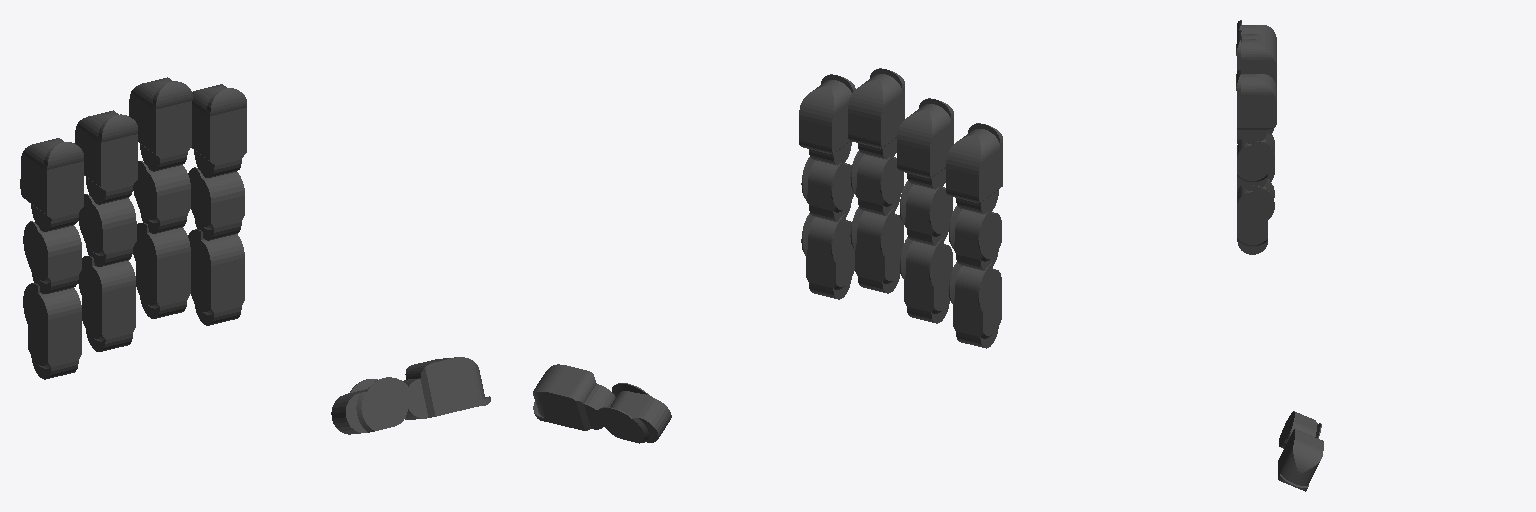
--- Facts derived from the render (not from the file) ---
The picture shows the robot from 3 angles, left to right: view 1: azimuth 30°, elevation 25°; view 2: azimuth 150°, elevation 25°; view 3: azimuth 270°, elevation 25°; orthographic projection.
Model softhand with 36 links and 35 joints (33 revolute, 2 fixed), rooted at world, posed every joint at zero.
Links seen in each view (by area): view 1: left_hand_v1_2_research_little_distal_link, left_hand_v1_2_research_middle_distal_link, left_hand_v1_2_research_ring_distal_link, left_hand_v1_2_research_little_proximal_link, left_hand_v1_2_research_middle_proximal_link, left_hand_v1_2_research_index_distal_link, left_hand_v1_2_research_ring_proximal_link, left_hand_v1_2_research_index_proximal_link, left_hand_v1_2_research_thumb_distal_link, left_hand_v1_2_research_thumb_proximal_link, left_hand_v1_2_research_little_middle_link, left_hand_v1_2_research_ring_middle_link (+2 smaller); view 2: left_hand_v1_2_research_little_distal_link, left_hand_v1_2_research_middle_distal_link, left_hand_v1_2_research_ring_distal_link, left_hand_v1_2_research_thumb_distal_link, left_hand_v1_2_research_index_distal_link, left_hand_v1_2_research_little_proximal_link, left_hand_v1_2_research_middle_proximal_link, left_hand_v1_2_research_index_proximal_link, left_hand_v1_2_research_ring_proximal_link, left_hand_v1_2_research_thumb_proximal_link, left_hand_v1_2_research_little_middle_link, left_hand_v1_2_research_ring_middle_link (+2 smaller); view 3: left_hand_v1_2_research_index_distal_link, left_hand_v1_2_research_index_proximal_link, left_hand_v1_2_research_thumb_distal_link, left_hand_v1_2_research_index_middle_link, left_hand_v1_2_research_middle_distal_link, left_hand_v1_2_research_thumb_proximal_link.
Boxes of the visible links, x1,y1,x2,y2 form: left_hand_v1_2_research_little_distal_link: (20, 138, 83, 231); left_hand_v1_2_research_middle_distal_link: (129, 77, 192, 171); left_hand_v1_2_research_ring_distal_link: (75, 110, 137, 204); left_hand_v1_2_research_little_proximal_link: (23, 283, 81, 379); left_hand_v1_2_research_middle_proximal_link: (133, 223, 190, 318); left_hand_v1_2_research_index_distal_link: (191, 84, 246, 177); left_hand_v1_2_research_ring_proximal_link: (78, 256, 135, 351); left_hand_v1_2_research_index_proximal_link: (188, 229, 244, 325); left_hand_v1_2_research_thumb_distal_link: (403, 357, 490, 419); left_hand_v1_2_research_thumb_proximal_link: (331, 377, 410, 434); left_hand_v1_2_research_little_middle_link: (23, 221, 81, 293); left_hand_v1_2_research_ring_middle_link: (78, 194, 136, 266); left_hand_v1_2_research_little_distal_link: (946, 123, 1002, 213); left_hand_v1_2_research_middle_distal_link: (848, 68, 904, 159); left_hand_v1_2_research_ring_distal_link: (897, 98, 953, 189); left_hand_v1_2_research_thumb_distal_link: (533, 364, 615, 430); left_hand_v1_2_research_index_distal_link: (799, 74, 855, 165); left_hand_v1_2_research_little_proximal_link: (948, 262, 1001, 348); left_hand_v1_2_research_middle_proximal_link: (850, 207, 903, 293); left_hand_v1_2_research_index_proximal_link: (801, 213, 854, 299); left_hand_v1_2_research_ring_proximal_link: (899, 237, 952, 323); left_hand_v1_2_research_thumb_proximal_link: (596, 383, 671, 443); left_hand_v1_2_research_little_middle_link: (949, 206, 1001, 270); left_hand_v1_2_research_ring_middle_link: (900, 181, 952, 245); left_hand_v1_2_research_index_distal_link: (1236, 70, 1276, 143); left_hand_v1_2_research_index_proximal_link: (1237, 179, 1274, 254); left_hand_v1_2_research_thumb_distal_link: (1278, 429, 1323, 491); left_hand_v1_2_research_index_middle_link: (1237, 132, 1274, 190); left_hand_v1_2_research_middle_distal_link: (1236, 35, 1276, 86); left_hand_v1_2_research_thumb_proximal_link: (1279, 411, 1321, 448).
Bounding box of the posed robot: 0.1766 × 0.0371 × 0.1549 m (x, y, z).
14 mesh visuals loaded from 7 distinct referenced files (3 binary STL); not drawn: 7 (reference not matched to a file when rendering).

URDF robot description (softhand):
<?xml version="1.0" ?>
<!-- =================================================================================== -->
<!-- |    This document was autogenerated by xacro from softhands.urdf.xacro           | -->
<!-- |    EDITING THIS FILE BY HAND IS NOT RECOMMENDED                                 | -->
<!-- =================================================================================== -->
<!-- 
 *  Software License Agreement: BSD 3-Clause License
 *
 * Copyright (c) 2021, NMMI
 * All rights reserved.
 *
 * Redistribution and use in source and binary forms, with or without
 * modification, are permitted provided that the following conditions are met:
 *
 * Redistributions of source code must retain the above copyright notice, this
 * list of conditions and the following disclaimer.
 *
 * Redistributions in binary form must reproduce the above copyright notice,
 * this list of conditions and the following disclaimer in the documentation
 * and/or other materials provided with the distribution.
 *
 * Neither the name of the copyright holder nor the names of its
 * contributors may be used to endorse or promote products derived from
 * this software without specific prior written permission.
 *
 * THIS SOFTWARE IS PROVIDED BY THE COPYRIGHT HOLDERS AND CONTRIBUTORS "AS IS"
 * AND ANY EXPRESS OR IMPLIED WARRANTIES, INCLUDING, BUT NOT LIMITED TO, THE
 * IMPLIED WARRANTIES OF MERCHANTABILITY AND FITNESS FOR A PARTICULAR PURPOSE ARE
 * DISCLAIMED. IN NO EVENT SHALL THE COPYRIGHT HOLDER OR CONTRIBUTORS BE LIABLE
 * FOR ANY DIRECT, INDIRECT, INCIDENTAL, SPECIAL, EXEMPLARY, OR CONSEQUENTIAL
 * DAMAGES (INCLUDING, BUT NOT LIMITED TO, PROCUREMENT OF SUBSTITUTE GOODS OR
 * SERVICES; LOSS OF USE, DATA, OR PROFITS; OR BUSINESS INTERRUPTION) HOWEVER
 * CAUSED AND ON ANY THEORY OF LIABILITY, WHETHER IN CONTRACT, STRICT LIABILITY,
 * OR TORT (INCLUDING NEGLIGENCE OR OTHERWISE) ARISING IN ANY WAY OUT OF THE USE
 * OF THIS SOFTWARE, EVEN IF ADVISED OF THE POSSIBILITY OF SUCH DAMAGE.
 *
 * \file      test_SHs_v2.urdf.xacro
 *
 * \author       _Centro di Ricerca "E.Piaggio"_
 * \author       _Istituto Italiano di Tecnologia, Soft Robotics for Human Cooperation and Rehabilitation Lab_
 *
-->
<robot name="softhand">
  <material name="qbhand/optional">
    <color rgba="0.0 0.5 0.8 1.0"/>
  </material>
  <material name="qbhand/base">
    <color rgba="0.35 0.35 0.35 1.0"/>
  </material>
  <material name="qbhand/palm">
    <color rgba="0.35 0.35 0.35 1.0"/>
  </material>
  <material name="qbhand/knuckle">
    <color rgba="0.35 0.35 0.35 1.0"/>
  </material>
  <material name="qbhand/proximal">
    <color rgba="0.35 0.35 0.35 1.0"/>
  </material>
  <material name="qbhand/middle">
    <color rgba="0.35 0.35 0.35 1.0"/>
  </material>
  <material name="qbhand/distal">
    <color rgba="0.35 0.35 0.35 1.0"/>
  </material>
  <material name="qbhand/default">
    <color rgba="0.35 0.35 0.35 1.0"/>
  </material>
  <!-- If you are using only the hand -->
  <link name="world"/>
  <!-- <xacro:v1_2_research 
				side="left"
				parent="world" 
				position="0 -0.2 0.02" 
				orientation="0 0 -1.57" 
				fixed_hands="false">
			</xacro:v1_2_research> -->
  <gazebo>
    <plugin filename="libsofthand_mimic_plugin.so" name="synergy_plugin">
      <namespace>left_hand_v1_2_research</namespace>
      <operation_mode>0</operation_mode>
      <spring_k>5</spring_k>
      <wide>False</wide>
      <r_finger>0.0033</r_finger>
      <R_pulley>0.0053</R_pulley>
      <n_param>0.058</n_param>
      <synS_thumb_j1>3</synS_thumb_j1>
      <synS_thumb_j2>1.2</synS_thumb_j2>
      <synS_thumb_j3>1.2</synS_thumb_j3>
      <k_thumb_j1>0.8</k_thumb_j1>
      <k_thumb_j2>0.8</k_thumb_j2>
      <k_thumb_j3>0.8</k_thumb_j3>
      <synS_index_j1>-0.3</synS_index_j1>
      <synS_index_j2>1.57</synS_index_j2>
      <synS_index_j3>1.25</synS_index_j3>
      <synS_index_j4>0.8</synS_index_j4>
      <k_index_j1>0.15</k_index_j1>
      <k_index_j2>0.5</k_index_j2>
      <k_index_j3>0.5</k_index_j3>
      <k_index_j4>0.5</k_index_j4>
      <synS_middle_j1>0</synS_middle_j1>
      <synS_middle_j2>1.57</synS_middle_j2>
      <synS_middle_j3>1.25</synS_middle_j3>
      <synS_middle_j4>1.25</synS_middle_j4>
      <k_middle_j1>0.15</k_middle_j1>
      <k_middle_j2>0.5</k_middle_j2>
      <k_middle_j3>0.5</k_middle_j3>
      <k_middle_j4>0.5</k_middle_j4>
      <synS_ring_j1>0</synS_ring_j1>
      <synS_ring_j2>1.57</synS_ring_j2>
      <synS_ring_j3>1.0</synS_ring_j3>
      <synS_ring_j4>1.0</synS_ring_j4>
      <k_ring_j1>0.15</k_ring_j1>
      <k_ring_j2>0.5</k_ring_j2>
      <k_ring_j3>0.5</k_ring_j3>
      <k_ring_j4>0.5</k_ring_j4>
      <synS_little_j1>0.1</synS_little_j1>
      <synS_little_j2>1.57</synS_little_j2>
      <synS_little_j3>1.25</synS_little_j3>
      <synS_little_j4>1.0</synS_little_j4>
      <k_little_j1>0.15</k_little_j1>
      <k_little_j2>0.5</k_little_j2>
      <k_little_j3>0.5</k_little_j3>
      <k_little_j4>0.5</k_little_j4>
      <!-- Palm thumb -->
      <synS_palm_j1>1.57</synS_palm_j1>
      <k_palm_j1>0.5</k_palm_j1>
      <k_palm_j1_mimic>0.5</k_palm_j1_mimic>
      <!-- Palm little -->
      <synS_palm_j2>1.57</synS_palm_j2>
      <k_palm_j2>0.5</k_palm_j2>
      <k_palm_j2_mimic>0.5</k_palm_j2_mimic>
    </plugin>
  </gazebo>
  <!-- World to palm base -->
  <joint name="left_hand_v1_2_research_iso_joint" type="fixed">
    <parent link="world"/>
    <child link="left_hand_v1_2_research_iso_link"/>
    <origin rpy="0 0 0" xyz="0 0 0"/>
  </joint>
  <link name="left_hand_v1_2_research_iso_link">
    <inertial>
      <mass value="0.205"/>
      <origin rpy="0 0 0" xyz="0.0 7.8738498e-04 1.5878899e-02"/>
      <inertia ixx="0.00012506929" ixy="0.0" ixz="0.0" iyy="0.0001338779" iyz="0.0" izz="0.00019218394"/>
    </inertial>
    <visual>
      <origin rpy="0 0 0" xyz="0 0 0"/>
      <geometry>
        <mesh filename="package://softhands_description/meshes/v1_2_research/left/flange_iso_04.stl" scale="0.001 0.001 0.001"/>
      </geometry>
      <material name="qbhand/base"/>
    </visual>
    <collision>
      <origin rpy="0 0 0" xyz="0 0 0"/>
      <geometry>
        <mesh filename="package://softhands_description/meshes/v1_2_research/left/flange_iso_04.stl" scale="0.001 0.001 0.001"/>
      </geometry>
    </collision>
  </link>
  <gazebo reference="left_hand_v1_2_research_iso_link">
    <material>Gazebo/Grey</material>
    <selfCollide>0</selfCollide>
  </gazebo>
  <joint name="left_hand_v1_2_research_palm_joint" type="fixed">
    <origin rpy="1.57 0  3.14" xyz="0.0045 0.0145 0.144"/>
    <parent link="left_hand_v1_2_research_iso_link"/>
    <child link="left_hand_v1_2_research_palm_link"/>
  </joint>
  <link name="left_hand_v1_2_research_palm_link">
    <inertial>
      <origin rpy="0 0 0" xyz="0.0030 -0.0449 -0.0135"/>
      <mass value="0.45"/>
      <inertia ixx="0.00045" ixy="0.0" ixz="0.0" iyy="0.00025" iyz="0.0" izz="0.0006"/>
    </inertial>
    <visual>
      <origin rpy="0 0 0" xyz="0 0 0"/>
      <geometry>
        <mesh filename="package://softhands_description/meshes/v1_2_research/left/palm_pinch.stl" scale="0.001 0.001 0.001"/>
      </geometry>
      <material name="qbhand/palm"/>
    </visual>
    <collision>
      <origin rpy="0 0 0" xyz="0 0 0"/>
      <geometry>
        <mesh filename="package://softhands_description/meshes/v1_2_research/left/palm_pinch.stl" scale="0.001 0.001 0.001"/>
      </geometry>
    </collision>
  </link>
  <gazebo reference="left_hand_v1_2_research_palm_link">
    <material>Gazebo/Grey</material>
    <selfCollide>0</selfCollide>
  </gazebo>
  <!-- Proximal JOINT -->
  <joint name="left_hand_v1_2_research_thumb_knuckle_joint" type="revolute">
    <origin rpy="-1.57 3.14 0.0" xyz="-0.044 -0.0465 0.002"/>
    <parent link="left_hand_v1_2_research_palm_link"/>
    <child link="left_hand_v1_2_research_thumb_knuckle_link"/>
    <axis xyz="0 0 1"/>
    <limit effort="30" lower="0.0" upper="1.57" velocity="10.0"/>
    <dynamics damping="3e-2" friction="0.0"/>
  </joint>
  <!-- LINK -->
  <link name="left_hand_v1_2_research_thumb_knuckle_link">
    <inertial>
      <origin rpy="0 0 0" xyz="1.3071561e-02 0.002734634 6.4090487e-04"/>
      <mass value="0.01"/>
      <inertia ixx="3.5865978e-07" ixy="-2.0944224e-07" ixz="-6.8657569e-08" iyy="1.3885564e-06" iyz="-3.2170608e-08" izz="1.3571203e-06"/>
    </inertial>
    <visual>
      <origin rpy="0 0 0" xyz="0 0 0"/>
      <geometry>
        <mesh filename="package://softhands_description/meshes/v1_2_research/left/ph_thumb.stl" scale="0.001 0.001 0.001"/>
      </geometry>
      <material name="qbhand/knuckle"/>
    </visual>
    <collision>
      <origin rpy="0 0 0" xyz="0 0 0"/>
      <geometry>
        <mesh filename="package://softhands_description/meshes/v1_2_research/left/ph_thumb.stl" scale="0.001 0.001 0.001"/>
      </geometry>
    </collision>
  </link>
  <!-- GAZEBO REF -->
  <gazebo reference="left_hand_v1_2_research_thumb_knuckle_link">
    <material>Gazebo/Grey</material>
    <selfCollide>0</selfCollide>
  </gazebo>
  <!-- GAZEBO REF -->
  <gazebo reference="left_hand_v1_2_research_thumb_knuckle_joint">
    <implicitSpringDamper>true</implicitSpringDamper>
    <springStiffness>0.4</springStiffness>
    <springReference>0</springReference>
  </gazebo>
  <!-- Inner VIRTUAL JOINT -->
  <joint name="left_hand_v1_2_research_thumb_proximal_virtual_joint" type="revolute">
    <axis xyz="0 0 -1"/>
    <origin rpy="-2 0.0 0.0" xyz="0.0255 0.0038 -0.00012"/>
    <parent link="left_hand_v1_2_research_thumb_knuckle_link"/>
    <child link="left_hand_v1_2_research_thumb_proximal_virtual_link"/>
    <limit effort="30" lower="0.0" upper="0.785398" velocity="10.0"/>
    <dynamics damping="3e-2" friction="0.0"/>
  </joint>
  <!-- VIRTUAL LINK -->
  <link name="left_hand_v1_2_research_thumb_proximal_virtual_link">
    <inertial>
      <origin rpy="0 0 0" xyz="0 0 0"/>
      <mass value="0.0063"/>
      <inertia ixx="1.8024201e-07" ixy="5.756798e-09" ixz="0.0" iyy="2.3516266e-07" iyz="0.0" izz="2.691504e-07"/>
    </inertial>
  </link>
  <!-- Outer JOINT -->
  <joint name="left_hand_v1_2_research_thumb_proximal_joint" type="revolute">
    <axis xyz="0 0 -1"/>
    <origin rpy="0 0 0" xyz="0.013 0 0"/>
    <parent link="left_hand_v1_2_research_thumb_proximal_virtual_link"/>
    <child link="left_hand_v1_2_research_thumb_proximal_link"/>
    <limit effort="30" lower="0.0" upper="0.785398" velocity="10.0"/>
    <dynamics damping="3e-2" friction="0.0"/>
  </joint>
  <!-- LINK -->
  <link name="left_hand_v1_2_research_thumb_proximal_link">
    <inertial>
      <mass value="0.0063"/>
      <inertia ixx="1.8024201e-07" ixy="5.756798e-09" ixz="0.0" iyy="2.3516266e-07" iyz="0.0" izz="2.691504e-07"/>
      <origin rpy="0 0 0" xyz="4.7601567e-03 -1.3786947e-03 0.0"/>
    </inertial>
    <visual>
      <origin rpy="0 0 0" xyz="0 0 0"/>
      <geometry>
        <mesh filename="package://softhands_description/meshes/v1_2_research/left/ph_short.stl" scale="0.001 0.001 0.001"/>
      </geometry>
      <material name="qbhand/palm"/>
    </visual>
    <collision>
      <origin rpy="0 0 0" xyz="0 0 0"/>
      <geometry>
        <mesh filename="package://softhands_description/meshes/v1_2_research/left/ph_short.stl" scale="0.001 0.001 0.001"/>
      </geometry>
    </collision>
  </link>
  <!-- GAZEBO REF -->
  <gazebo reference="left_hand_v1_2_research_thumb_proximal_link">
    <material>Gazebo/Grey</material>
    <selfCollide>0</selfCollide>
  </gazebo>
  <!-- GAZEBO REF -->
  <gazebo reference="left_hand_v1_2_research_thumb_proximal_joint">
    <implicitSpringDamper>true</implicitSpringDamper>
    <springStiffness>0.4</springStiffness>
    <springReference>0</springReference>
  </gazebo>
  <!-- GAZEBO REF -->
  <gazebo reference="left_hand_v1_2_research_thumb_proximal_virtual_joint">
    <implicitSpringDamper>true</implicitSpringDamper>
    <springStiffness>0.4</springStiffness>
    <springReference>0</springReference>
  </gazebo>
  <!-- Inner VIRTUAL JOINT -->
  <joint name="left_hand_v1_2_research_thumb_distal_virtual_joint" type="revolute">
    <axis xyz="0 0 -1"/>
    <origin rpy="0 0 0" xyz="0.009 0 0"/>
    <parent link="left_hand_v1_2_research_thumb_proximal_link"/>
    <child link="left_hand_v1_2_research_thumb_distal_virtual_link"/>
    <limit effort="30" lower="0.0" upper="0.785398" velocity="10.0"/>
    <dynamics damping="3e-2" friction="0.0"/>
  </joint>
  <!-- VIRTUAL LINK -->
  <link name="left_hand_v1_2_research_thumb_distal_virtual_link">
    <inertial>
      <origin rpy="0 0 0" xyz="0 0 0"/>
      <mass value="0.009"/>
      <inertia ixx="2.6586142e-07" ixy="1.2416847e-08" ixz="0.0" iyy="5.9935767e-07" iyz="0.0" izz="6.6781963e-07"/>
    </inertial>
  </link>
  <!-- Outer JOINT -->
  <joint name="left_hand_v1_2_research_thumb_distal_joint" type="revolute">
    <axis xyz="0 0 -1"/>
    <origin rpy="0 0 0" xyz="0.013 0 0"/>
    <parent link="left_hand_v1_2_research_thumb_distal_virtual_link"/>
    <child link="left_hand_v1_2_research_thumb_distal_link"/>
    <limit effort="30" lower="0.0" upper="0.785398" velocity="10.0"/>
    <dynamics damping="3e-2" friction="0.0"/>
  </joint>
  <!-- LINK -->
  <link name="left_hand_v1_2_research_thumb_distal_link">
    <inertial>
      <mass value="0.009"/>
      <inertia ixx="2.6586142e-07" ixy="1.2416847e-08" ixz="0.0" iyy="5.9935767e-07" iyz="0.0" izz="6.6781963e-07"/>
      <origin rpy="0 0 0" xyz="8.8025467e-03 -1.7219289e-03 0.0"/>
    </inertial>
    <visual>
      <origin rpy="0 0 0" xyz="0 0 0"/>
      <geometry>
        <mesh filename="package://softhands_description/meshes/v1_2_research/left/ph_distal.stl" scale="0.001 0.001 0.001"/>
      </geometry>
      <material name="qbhand/palm"/>
    </visual>
    <collision>
      <origin rpy="0 0 0" xyz="0 0 0"/>
      <geometry>
        <mesh filename="package://softhands_description/meshes/v1_2_research/left/ph_distal.stl" scale="0.001 0.001 0.001"/>
      </geometry>
    </collision>
  </link>
  <!-- GAZEBO REF -->
  <gazebo reference="left_hand_v1_2_research_thumb_distal_link">
    <material>Gazebo/Grey</material>
    <selfCollide>0</selfCollide>
  </gazebo>
  <!-- GAZEBO REF -->
  <gazebo reference="left_hand_v1_2_research_thumb_distal_joint">
    <implicitSpringDamper>true</implicitSpringDamper>
    <springStiffness>0.4</springStiffness>
    <springReference>0</springReference>
  </gazebo>
  <!-- GAZEBO REF -->
  <gazebo reference="left_hand_v1_2_research_thumb_distal_virtual_joint">
    <implicitSpringDamper>true</implicitSpringDamper>
    <springStiffness>0.4</springStiffness>
    <springReference>0</springReference>
  </gazebo>
  <!-- Proximal JOINT -->
  <joint name="left_hand_v1_2_research_index_knuckle_joint" type="revolute">
    <origin rpy="0 3.14 -1.57" xyz="-0.02 -0.007 -0.014"/>
    <parent link="left_hand_v1_2_research_palm_link"/>
    <child link="left_hand_v1_2_research_index_knuckle_link"/>
    <axis xyz="0 0 -1"/>
    <limit effort="30" lower="-0.524" upper="0.524" velocity="10.0"/>
    <dynamics damping="3e-2" friction="0.0"/>
  </joint>
  <!-- LINK -->
  <link name="left_hand_v1_2_research_index_knuckle_link">
    <inertial>
      <origin rpy="0 0 0" xyz="4.2753603e-04  0.0 -1.4321738e-03"/>
      <mass value="0.0095"/>
      <inertia ixx="6.4337303e-07" ixy="0.0" ixz="-3.9373913e-08" iyy="1.1253771e-06" iyz="0.0" izz="7.2336948e-07"/>
    </inertial>
    <visual>
      <origin rpy="0 0 0" xyz="0 0 0"/>
      <geometry>
        <mesh filename="package://softhands_description/meshes/v1_2_research/left/ph_knuckle.stl" scale="0.001 0.001 0.001"/>
      </geometry>
      <material name="qbhand/palm"/>
    </visual>
    <collision>
      <origin rpy="0 0 0" xyz="0 0 0"/>
      <geometry>
        <mesh filename="package://softhands_description/meshes/v1_2_research/left/ph_knuckle.stl" scale="0.001 0.001 0.001"/>
      </geometry>
    </collision>
  </link>
  <!-- GAZEBO REF -->
  <gazebo reference="left_hand_v1_2_research_index_knuckle_link">
    <material>Gazebo/Grey</material>
    <selfCollide>0</selfCollide>
  </gazebo>
  <!-- GAZEBO REF -->
  <gazebo reference="left_hand_v1_2_research_index_knuckle_joint">
    <implicitSpringDamper>true</implicitSpringDamper>
    <springStiffness>0.8</springStiffness>
    <springReference>0</springReference>
  </gazebo>
  <!-- Inner VIRTUAL JOINT -->
  <joint name="left_hand_v1_2_research_index_proximal_virtual_joint" type="revolute">
    <axis xyz="0 0 -1"/>
    <origin rpy="1.57 0 0" xyz="0.009 0 0"/>
    <parent link="left_hand_v1_2_research_index_knuckle_link"/>
    <child link="left_hand_v1_2_research_index_proximal_virtual_link"/>
    <limit effort="30" lower="0.0" upper="0.785398" velocity="10.0"/>
    <dynamics damping="3e-2" friction="0.0"/>
  </joint>
  <!-- VIRTUAL LINK -->
  <link name="left_hand_v1_2_research_index_proximal_virtual_link">
    <inertial>
      <origin rpy="0 0 0" xyz="0 0 0"/>
      <mass value="0.009"/>
      <inertia ixx="2.2722068e-07" ixy="1.1586053e-08" ixz="0.0" iyy="5.5947233e-07" iyz="0.0" izz="5.9562195e-07"/>
    </inertial>
  </link>
  <!-- Outer JOINT -->
  <joint name="left_hand_v1_2_research_index_proximal_joint" type="revolute">
    <axis xyz="0 0 -1"/>
    <origin rpy="0.0 0 0" xyz="0.013 0 0"/>
    <parent link="left_hand_v1_2_research_index_proximal_virtual_link"/>
    <child link="left_hand_v1_2_research_index_proximal_link"/>
    <limit effort="30" lower="0.0" upper="0.785398" velocity="10.0"/>
    <dynamics damping="3e-2" friction="0.0"/>
  </joint>
  <!-- LINK -->
  <link name="left_hand_v1_2_research_index_proximal_link">
    <inertial>
      <mass value="0.009"/>
      <inertia ixx="2.2722068e-07" ixy="1.1586053e-08" ixz="0.0" iyy="5.5947233e-07" iyz="0.0" izz="5.9562195e-07"/>
      <origin rpy="0 0 0" xyz="8.7707437e-03 -1.7863138e-03 0.0"/>
    </inertial>
    <visual>
      <origin rpy="0 0 0" xyz="0 0 0"/>
      <geometry>
        <mesh filename="package://softhands_description/meshes/v1_2_research/left/ph_medium.stl" scale="0.001 0.001 0.001"/>
      </geometry>
      <material name="qbhand/palm"/>
    </visual>
    <collision>
      <origin rpy="0 0 0" xyz="0 0 0"/>
      <geometry>
        <mesh filename="package://softhands_description/meshes/v1_2_research/left/ph_medium.stl" scale="0.001 0.001 0.001"/>
      </geometry>
    </collision>
  </link>
  <!-- GAZEBO REF -->
  <gazebo reference="left_hand_v1_2_research_index_proximal_link">
    <material>Gazebo/Grey</material>
    <selfCollide>0</selfCollide>
  </gazebo>
  <!-- GAZEBO REF -->
  <gazebo reference="left_hand_v1_2_research_index_proximal_joint">
    <implicitSpringDamper>true</implicitSpringDamper>
    <springStiffness>0.4</springStiffness>
    <springReference>0</springReference>
  </gazebo>
  <!-- GAZEBO REF -->
  <gazebo reference="left_hand_v1_2_research_index_proximal_virtual_joint">
    <implicitSpringDamper>true</implicitSpringDamper>
    <springStiffness>0.4</springStiffness>
    <springReference>0</springReference>
  </gazebo>
  <!-- Inner VIRTUAL JOINT -->
  <joint name="left_hand_v1_2_research_index_middle_virtual_joint" type="revolute">
    <axis xyz="0 0 -1"/>
    <origin rpy="0.0 0.0 0.0" xyz="0.013 0 0 "/>
    <parent link="left_hand_v1_2_research_index_proximal_link"/>
    <child link="left_hand_v1_2_research_index_middle_virtual_link"/>
    <limit effort="30" lower="0.0" upper="0.785398" velocity="10.0"/>
    <dynamics damping="3e-2" friction="0.0"/>
  </joint>
  <!-- VIRTUAL LINK -->
  <link name="left_hand_v1_2_research_index_middle_virtual_link">
    <inertial>
      <origin rpy="0 0 0" xyz="0 0 0"/>
      <mass value="0.0063"/>
      <inertia ixx="1.8024201e-07" ixy="5.756798e-09" ixz="0.0" iyy="2.3516266e-07" iyz="0.0" izz="2.691504e-07"/>
    </inertial>
  </link>
  <!-- Outer JOINT -->
  <joint name="left_hand_v1_2_research_index_middle_joint" type="revolute">
    <axis xyz="0 0 -1"/>
    <origin rpy="0 0 0" xyz="0.017 0 0"/>
    <parent link="left_hand_v1_2_research_index_middle_virtual_link"/>
    <child link="left_hand_v1_2_research_index_middle_link"/>
    <limit effort="30" lower="0.0" upper="0.785398" velocity="10.0"/>
    <dynamics damping="3e-2" friction="0.0"/>
  </joint>
  <!-- LINK -->
  <link name="left_hand_v1_2_research_index_middle_link">
    <inertial>
      <mass value="0.0063"/>
      <inertia ixx="1.8024201e-07" ixy="5.756798e-09" ixz="0.0" iyy="2.3516266e-07" iyz="0.0" izz="2.691504e-07"/>
      <origin rpy="0 0 0" xyz="4.7601567e-03 -1.3786947e-03 0.0"/>
    </inertial>
    <visual>
      <origin rpy="0 0 0" xyz="0 0 0"/>
      <geometry>
        <mesh filename="package://softhands_description/meshes/v1_2_research/left/ph_short.stl" scale="0.001 0.001 0.001"/>
      </geometry>
      <material name="qbhand/palm"/>
    </visual>
    <collision>
      <origin rpy="0 0 0" xyz="0 0 0"/>
      <geometry>
        <mesh filename="package://softhands_description/meshes/v1_2_research/left/ph_short.stl" scale="0.001 0.001 0.001"/>
      </geometry>
    </collision>
  </link>
  <!-- GAZEBO REF -->
  <gazebo reference="left_hand_v1_2_research_index_middle_link">
    <material>Gazebo/Grey</material>
    <selfCollide>0</selfCollide>
  </gazebo>
  <!-- GAZEBO REF -->
  <gazebo reference="left_hand_v1_2_research_index_middle_joint">
    <implicitSpringDamper>true</implicitSpringDamper>
    <springStiffness>0.4</springStiffness>
    <springReference>0</springReference>
  </gazebo>
  <!-- GAZEBO REF -->
  <gazebo reference="left_hand_v1_2_research_index_middle_virtual_joint">
    <implicitSpringDamper>true</implicitSpringDamper>
    <springStiffness>0.4</springStiffness>
    <springReference>0</springReference>
  </gazebo>
  <!-- Inner VIRTUAL JOINT -->
  <joint name="left_hand_v1_2_research_index_distal_virtual_joint" type="revolute">
    <axis xyz="0 0 -1"/>
    <origin rpy="0 0 0" xyz="0.009 0 0"/>
    <parent link="left_hand_v1_2_research_index_middle_link"/>
    <child link="left_hand_v1_2_research_index_distal_virtual_link"/>
    <limit effort="30" lower="0.0" upper="0.785398" velocity="10.0"/>
    <dynamics damping="3e-2" friction="0.0"/>
  </joint>
  <!-- VIRTUAL LINK -->
  <link name="left_hand_v1_2_research_index_distal_virtual_link">
    <inertial>
      <origin rpy="0 0 0" xyz="0 0 0"/>
      <mass value="0.009"/>
      <inertia ixx="2.6586142e-07" ixy="1.2416847e-08" ixz="0.0" iyy="5.9935767e-07" iyz="0.0" izz="6.6781963e-07"/>
    </inertial>
  </link>
  <!-- Outer JOINT -->
  <joint name="left_hand_v1_2_research_index_distal_joint" type="revolute">
    <axis xyz="0 0 -1"/>
    <origin rpy="0 0 0" xyz="0.013 0 0"/>
    <parent link="left_hand_v1_2_research_index_distal_virtual_link"/>
    <child link="left_hand_v1_2_research_index_distal_link"/>
    <limit effort="30" lower="0.0" upper="0.785398" velocity="10.0"/>
    <dynamics damping="3e-2" friction="0.0"/>
  </joint>
  <!-- LINK -->
  <link name="left_hand_v1_2_research_index_distal_link">
    <inertial>
      <mass value="0.009"/>
      <inertia ixx="2.6586142e-07" ixy="1.2416847e-08" ixz="0.0" iyy="5.9935767e-07" iyz="0.0" izz="6.6781963e-07"/>
      <origin rpy="0 0 0" xyz="8.8025467e-03 -1.7219289e-03 0.0"/>
    </inertial>
    <visual>
      <origin rpy="0 0 0" xyz="0 0 0"/>
      <geometry>
        <mesh filename="package://softhands_description/meshes/v1_2_research/left/ph_distal.stl" scale="0.001 0.001 0.001"/>
      </geometry>
      <material name="qbhand/palm"/>
    </visual>
    <collision>
      <origin rpy="0 0 0" xyz="0 0 0"/>
      <geometry>
        <mesh filename="package://softhands_description/meshes/v1_2_research/left/ph_distal.stl" scale="0.001 0.001 0.001"/>
      </geometry>
    </collision>
  </link>
  <!-- GAZEBO REF -->
  <gazebo reference="left_hand_v1_2_research_index_distal_link">
    <material>Gazebo/Grey</material>
    <selfCollide>0</selfCollide>
  </gazebo>
  <!-- GAZEBO REF -->
  <gazebo reference="left_hand_v1_2_research_index_distal_joint">
    <implicitSpringDamper>true</implicitSpringDamper>
    <springStiffness>0.4</springStiffness>
    <springReference>0</springReference>
  </gazebo>
  <!-- GAZEBO REF -->
  <gazebo reference="left_hand_v1_2_research_index_distal_virtual_joint">
    <implicitSpringDamper>true</implicitSpringDamper>
    <springStiffness>0.4</springStiffness>
    <springReference>0</springReference>
  </gazebo>
  <!-- Proximal JOINT -->
  <joint name="left_hand_v1_2_research_middle_knuckle_joint" type="revolute">
    <origin rpy="0 3.14 -1.57" xyz="0 0 -0.014"/>
    <parent link="left_hand_v1_2_research_palm_link"/>
    <child link="left_hand_v1_2_research_middle_knuckle_link"/>
    <axis xyz="0 0 -1"/>
    <limit effort="30" lower="-0.524" upper="0.524" velocity="10.0"/>
    <dynamics damping="3e-2" friction="0.0"/>
  </joint>
  <!-- LINK -->
  <link name="left_hand_v1_2_research_middle_knuckle_link">
    <inertial>
      <origin rpy="0 0 0" xyz="4.2753603e-04  0.0 -1.4321738e-03"/>
      <mass value="0.0095"/>
      <inertia ixx="6.4337303e-07" ixy="0.0" ixz="-3.9373913e-08" iyy="1.1253771e-06" iyz="0.0" izz="7.2336948e-07"/>
    </inertial>
    <visual>
      <origin rpy="0 0 0" xyz="0 0 0"/>
      <geometry>
        <mesh filename="package://softhands_description/meshes/v1_2_research/left/ph_knuckle.stl" scale="0.001 0.001 0.001"/>
      </geometry>
      <material name="qbhand/palm"/>
    </visual>
    <collision>
      <origin rpy="0 0 0" xyz="0 0 0"/>
      <geometry>
        <mesh filename="package://softhands_description/meshes/v1_2_research/left/ph_knuckle.stl" scale="0.001 0.001 0.001"/>
      </geometry>
    </collision>
  </link>
  <!-- GAZEBO REF -->
  <gazebo reference="left_hand_v1_2_research_middle_knuckle_link">
    <material>Gazebo/Grey</material>
    <selfCollide>0</selfCollide>
  </gazebo>
  <!-- GAZEBO REF -->
  <gazebo reference="left_hand_v1_2_research_middle_knuckle_joint">
    <implicitSpringDamper>true</implicitSpringDamper>
    <springStiffness>0.8</springStiffness>
    <springReference>0</springReference>
  </gazebo>
  <!-- Inner VIRTUAL JOINT -->
  <joint name="left_hand_v1_2_research_middle_proximal_virtual_joint" type="revolute">
    <axis xyz="0 0 -1"/>
    <origin rpy="1.57 0 0" xyz="0.009 0 0"/>
    <parent link="left_hand_v1_2_research_middle_knuckle_link"/>
    <child link="left_hand_v1_2_research_middle_proximal_virtual_link"/>
    <limit effort="30" lower="0.0" upper="0.785398" velocity="10.0"/>
    <dynamics damping="3e-2" friction="0.0"/>
  </joint>
  <!-- VIRTUAL LINK -->
  <link name="left_hand_v1_2_research_middle_proximal_virtual_link">
    <inertial>
      <origin rpy="0 0 0" xyz="0 0 0"/>
      <mass value="0.009"/>
      <inertia ixx="2.2722068e-07" ixy="1.1586053e-08" ixz="0.0" iyy="5.5947233e-07" iyz="0.0" izz="5.9562195e-07"/>
    </inertial>
  </link>
  <!-- Outer JOINT -->
  <joint name="left_hand_v1_2_research_middle_proximal_joint" type="revolute">
    <axis xyz="0 0 -1"/>
    <origin rpy="0.0 0 0" xyz="0.013 0 0"/>
    <parent link="left_hand_v1_2_research_middle_proximal_virtual_link"/>
    <child link="left_hand_v1_2_research_middle_proximal_link"/>
    <limit effort="30" lower="0.0" upper="0.785398" velocity="10.0"/>
    <dynamics damping="3e-2" friction="0.0"/>
  </joint>
  <!-- LINK -->
  <link name="left_hand_v1_2_research_middle_proximal_link">
    <inertial>
      <mass value="0.009"/>
      <inertia ixx="2.2722068e-07" ixy="1.1586053e-08" ixz="0.0" iyy="5.5947233e-07" iyz="0.0" izz="5.9562195e-07"/>
      <origin rpy="0 0 0" xyz="8.7707437e-03 -1.7863138e-03 0.0"/>
    </inertial>
    <visual>
      <origin rpy="0 0 0" xyz="0 0 0"/>
      <geometry>
        <mesh filename="package://softhands_description/meshes/v1_2_research/left/ph_medium.stl" scale="0.001 0.001 0.001"/>
      </geometry>
      <material name="qbhand/palm"/>
    </visual>
    <collision>
      <origin rpy="0 0 0" xyz="0 0 0"/>
      <geometry>
        <mesh filename="package://softhands_description/meshes/v1_2_research/left/ph_medium.stl" scale="0.001 0.001 0.001"/>
      </geometry>
    </collision>
  </link>
  <!-- GAZEBO REF -->
  <gazebo reference="left_hand_v1_2_research_middle_proximal_link">
    <material>Gazebo/Grey</material>
    <selfCollide>0</selfCollide>
  </gazebo>
  <!-- GAZEBO REF -->
  <gazebo reference="left_hand_v1_2_research_middle_proximal_joint">
    <implicitSpringDamper>true</implicitSpringDamper>
    <springStiffness>0.4</springStiffness>
    <springReference>0</springReference>
  </gazebo>
  <!-- GAZEBO REF -->
  <gazebo reference="left_hand_v1_2_research_middle_proximal_virtual_joint">
    <implicitSpringDamper>true</implicitSpringDamper>
    <springStiffness>0.4</springStiffness>
    <springReference>0</springReference>
  </gazebo>
  <!-- Inner VIRTUAL JOINT -->
  <joint name="left_hand_v1_2_research_middle_middle_virtual_joint" type="revolute">
    <axis xyz="0 0 -1"/>
    <origin rpy="0.0 0.0 0.0" xyz="0.013 0 0 "/>
    <parent link="left_hand_v1_2_research_middle_proximal_link"/>
    <child link="left_hand_v1_2_research_middle_middle_virtual_link"/>
    <limit effort="30" lower="0.0" upper="0.785398" velocity="10.0"/>
    <dynamics damping="3e-2" friction="0.0"/>
  </joint>
  <!-- VIRTUAL LINK -->
  <link name="left_hand_v1_2_research_middle_middle_virtual_link">
    <inertial>
      <origin rpy="0 0 0" xyz="0 0 0"/>
      <mass value="0.0063"/>
      <inertia ixx="1.8024201e-07" ixy="5.756798e-09" ixz="0.0" iyy="2.3516266e-07" iyz="0.0" izz="2.691504e-07"/>
    </inertial>
  </link>
  <!-- Outer JOINT -->
  <joint name="left_hand_v1_2_research_middle_middle_joint" type="revolute">
    <axis xyz="0 0 -1"/>
    <origin rpy="0 0 0" xyz="0.017 0 0"/>
    <parent link="left_hand_v1_2_research_middle_middle_virtual_link"/>
    <child link="left_hand_v1_2_research_middle_middle_link"/>
    <limit effort="30" lower="0.0" upper="0.785398" velocity="10.0"/>
    <dynamics damping="3e-2" friction="0.0"/>
  </joint>
  <!-- LINK -->
  <link name="left_hand_v1_2_research_middle_middle_link">
    <inertial>
      <mass value="0.0063"/>
      <inertia ixx="1.8024201e-07" ixy="5.756798e-09" ixz="0.0" iyy="2.3516266e-07" iyz="0.0" izz="2.691504e-07"/>
      <origin rpy="0 0 0" xyz="4.7601567e-03 -1.3786947e-03 0.0"/>
    </inertial>
    <visual>
      <origin rpy="0 0 0" xyz="0 0 0"/>
      <geometry>
        <mesh filename="package://softhands_description/meshes/v1_2_research/left/ph_short.stl" scale="0.001 0.001 0.001"/>
      </geometry>
      <material name="qbhand/palm"/>
    </visual>
    <collision>
      <origin rpy="0 0 0" xyz="0 0 0"/>
      <geometry>
        <mesh filename="package://softhands_description/meshes/v1_2_research/left/ph_short.stl" scale="0.001 0.001 0.001"/>
      </geometry>
    </collision>
  </link>
  <!-- GAZEBO REF -->
  <gazebo reference="left_hand_v1_2_research_middle_middle_link">
    <material>Gazebo/Grey</material>
    <selfCollide>0</selfCollide>
  </gazebo>
  <!-- GAZEBO REF -->
  <gazebo reference="left_hand_v1_2_research_middle_middle_joint">
    <implicitSpringDamper>true</implicitSpringDamper>
    <springStiffness>0.4</springStiffness>
    <springReference>0</springReference>
  </gazebo>
  <!-- GAZEBO REF -->
  <gazebo reference="left_hand_v1_2_research_middle_middle_virtual_joint">
    <implicitSpringDamper>true</implicitSpringDamper>
    <springStiffness>0.4</springStiffness>
    <springReference>0</springReference>
  </gazebo>
  <!-- Inner VIRTUAL JOINT -->
  <joint name="left_hand_v1_2_research_middle_distal_virtual_joint" type="revolute">
    <axis xyz="0 0 -1"/>
    <origin rpy="0 0 0" xyz="0.009 0 0"/>
    <parent link="left_hand_v1_2_research_middle_middle_link"/>
    <child link="left_hand_v1_2_research_middle_distal_virtual_link"/>
    <limit effort="30" lower="0.0" upper="0.785398" velocity="10.0"/>
    <dynamics damping="3e-2" friction="0.0"/>
  </joint>
  <!-- VIRTUAL LINK -->
  <link name="left_hand_v1_2_research_middle_distal_virtual_link">
    <inertial>
      <origin rpy="0 0 0" xyz="0 0 0"/>
      <mass value="0.009"/>
      <inertia ixx="2.6586142e-07" ixy="1.2416847e-08" ixz="0.0" iyy="5.9935767e-07" iyz="0.0" izz="6.6781963e-07"/>
    </inertial>
  </link>
  <!-- Outer JOINT -->
  <joint name="left_hand_v1_2_research_middle_distal_joint" type="revolute">
    <axis xyz="0 0 -1"/>
    <origin rpy="0 0 0" xyz="0.013 0 0"/>
    <parent link="left_hand_v1_2_research_middle_distal_virtual_link"/>
    <child link="left_hand_v1_2_research_middle_distal_link"/>
    <limit effort="30" lower="0.0" upper="0.785398" velocity="10.0"/>
    <dynamics damping="3e-2" friction="0.0"/>
  </joint>
  <!-- LINK -->
  <link name="left_hand_v1_2_research_middle_distal_link">
    <inertial>
      <mass value="0.009"/>
      <inertia ixx="2.6586142e-07" ixy="1.2416847e-08" ixz="0.0" iyy="5.9935767e-07" iyz="0.0" izz="6.6781963e-07"/>
      <origin rpy="0 0 0" xyz="8.8025467e-03 -1.7219289e-03 0.0"/>
    </inertial>
    <visual>
      <origin rpy="0 0 0" xyz="0 0 0"/>
      <geometry>
        <mesh filename="package://softhands_description/meshes/v1_2_research/left/ph_distal.stl" scale="0.001 0.001 0.001"/>
      </geometry>
      <material name="qbhand/palm"/>
    </visual>
    <collision>
      <origin rpy="0 0 0" xyz="0 0 0"/>
      <geometry>
        <mesh filename="package://softhands_description/meshes/v1_2_research/left/ph_distal.stl" scale="0.001 0.001 0.001"/>
      </geometry>
    </collision>
  </link>
  <!-- GAZEBO REF -->
  <gazebo reference="left_hand_v1_2_research_middle_distal_link">
    <material>Gazebo/Grey</material>
    <selfCollide>0</selfCollide>
  </gazebo>
  <!-- GAZEBO REF -->
  <gazebo reference="left_hand_v1_2_research_middle_distal_joint">
    <implicitSpringDamper>true</implicitSpringDamper>
    <springStiffness>0.4</springStiffness>
    <springReference>0</springReference>
  </gazebo>
  <!-- GAZEBO REF -->
  <gazebo reference="left_hand_v1_2_research_middle_distal_virtual_joint">
    <implicitSpringDamper>true</implicitSpringDamper>
    <springStiffness>0.4</springStiffness>
    <springReference>0</springReference>
  </gazebo>
  <!-- Proximal JOINT -->
  <joint name="left_hand_v1_2_research_ring_knuckle_joint" type="revolute">
    <origin rpy="0 3.14 -1.57" xyz="0.02 -0.007 -0.014"/>
    <parent link="left_hand_v1_2_research_palm_link"/>
    <child link="left_hand_v1_2_research_ring_knuckle_link"/>
    <axis xyz="0 0 -1"/>
    <limit effort="30" lower="-0.524" upper="0.524" velocity="10.0"/>
    <dynamics damping="3e-2" friction="0.0"/>
  </joint>
  <!-- LINK -->
  <link name="left_hand_v1_2_research_ring_knuckle_link">
    <inertial>
      <origin rpy="0 0 0" xyz="4.2753603e-04  0.0 -1.4321738e-03"/>
      <mass value="0.0095"/>
      <inertia ixx="6.4337303e-07" ixy="0.0" ixz="-3.9373913e-08" iyy="1.1253771e-06" iyz="0.0" izz="7.2336948e-07"/>
    </inertial>
    <visual>
      <origin rpy="0 0 0" xyz="0 0 0"/>
      <geometry>
        <mesh filename="package://softhands_description/meshes/v1_2_research/left/ph_knuckle.stl" scale="0.001 0.001 0.001"/>
      </geometry>
      <material name="qbhand/palm"/>
    </visual>
    <collision>
      <origin rpy="0 0 0" xyz="0 0 0"/>
      <geometry>
        <mesh filename="package://softhands_description/meshes/v1_2_research/left/ph_knuckle.stl" scale="0.001 0.001 0.001"/>
      </geometry>
    </collision>
  </link>
  <!-- GAZEBO REF -->
  <gazebo reference="left_hand_v1_2_research_ring_knuckle_link">
    <material>Gazebo/Grey</material>
    <selfCollide>0</selfCollide>
  </gazebo>
  <!-- GAZEBO REF -->
  <gazebo reference="left_hand_v1_2_research_ring_knuckle_joint">
    <implicitSpringDamper>true</implicitSpringDamper>
    <springStiffness>0.8</springStiffness>
    <springReference>0</springReference>
  </gazebo>
  <!-- Inner VIRTUAL JOINT -->
  <joint name="left_hand_v1_2_research_ring_proximal_virtual_joint" type="revolute">
    <axis xyz="0 0 -1"/>
    <origin rpy="1.57 0 0" xyz="0.009 0 0"/>
    <parent link="left_hand_v1_2_research_ring_knuckle_link"/>
    <child link="left_hand_v1_2_research_ring_proximal_virtual_link"/>
    <limit effort="30" lower="0.0" upper="0.785398" velocity="10.0"/>
    <dynamics damping="3e-2" friction="0.0"/>
  </joint>
  <!-- VIRTUAL LINK -->
  <link name="left_hand_v1_2_research_ring_proximal_virtual_link">
    <inertial>
      <origin rpy="0 0 0" xyz="0 0 0"/>
      <mass value="0.009"/>
      <inertia ixx="2.2722068e-07" ixy="1.1586053e-08" ixz="0.0" iyy="5.5947233e-07" iyz="0.0" izz="5.9562195e-07"/>
    </inertial>
  </link>
  <!-- Outer JOINT -->
  <joint name="left_hand_v1_2_research_ring_proximal_joint" type="revolute">
    <axis xyz="0 0 -1"/>
    <origin rpy="0.0 0 0" xyz="0.013 0 0"/>
    <parent link="left_hand_v1_2_research_ring_proximal_virtual_link"/>
    <child link="left_hand_v1_2_research_ring_proximal_link"/>
    <limit effort="30" lower="0.0" upper="0.785398" velocity="10.0"/>
    <dynamics damping="3e-2" friction="0.0"/>
  </joint>
  <!-- LINK -->
  <link name="left_hand_v1_2_research_ring_proximal_link">
    <inertial>
      <mass value="0.009"/>
      <inertia ixx="2.2722068e-07" ixy="1.1586053e-08" ixz="0.0" iyy="5.5947233e-07" iyz="0.0" izz="5.9562195e-07"/>
      <origin rpy="0 0 0" xyz="8.7707437e-03 -1.7863138e-03 0.0"/>
    </inertial>
    <visual>
      <origin rpy="0 0 0" xyz="0 0 0"/>
      <geometry>
        <mesh filename="package://softhands_description/meshes/v1_2_research/left/ph_medium.stl" scale="0.001 0.001 0.001"/>
      </geometry>
      <material name="qbhand/palm"/>
    </visual>
    <collision>
      <origin rpy="0 0 0" xyz="0 0 0"/>
      <geometry>
        <mesh filename="package://softhands_description/meshes/v1_2_research/left/ph_medium.stl" scale="0.001 0.001 0.001"/>
      </geometry>
    </collision>
  </link>
  <!-- GAZEBO REF -->
  <gazebo reference="left_hand_v1_2_research_ring_proximal_link">
    <material>Gazebo/Grey</material>
    <selfCollide>0</selfCollide>
  </gazebo>
  <!-- GAZEBO REF -->
  <gazebo reference="left_hand_v1_2_research_ring_proximal_joint">
    <implicitSpringDamper>true</implicitSpringDamper>
    <springStiffness>0.4</springStiffness>
    <springReference>0</springReference>
  </gazebo>
  <!-- GAZEBO REF -->
  <gazebo reference="left_hand_v1_2_research_ring_proximal_virtual_joint">
    <implicitSpringDamper>true</implicitSpringDamper>
    <springStiffness>0.4</springStiffness>
    <springReference>0</springReference>
  </gazebo>
  <!-- Inner VIRTUAL JOINT -->
  <joint name="left_hand_v1_2_research_ring_middle_virtual_joint" type="revolute">
    <axis xyz="0 0 -1"/>
    <origin rpy="0.0 0.0 0.0" xyz="0.013 0 0 "/>
    <parent link="left_hand_v1_2_research_ring_proximal_link"/>
    <child link="left_hand_v1_2_research_ring_middle_virtual_link"/>
    <limit effort="30" lower="0.0" upper="0.785398" velocity="10.0"/>
    <dynamics damping="3e-2" friction="0.0"/>
  </joint>
  <!-- VIRTUAL LINK -->
  <link name="left_hand_v1_2_research_ring_middle_virtual_link">
    <inertial>
      <origin rpy="0 0 0" xyz="0 0 0"/>
      <mass value="0.0063"/>
      <inertia ixx="1.8024201e-07" ixy="5.756798e-09" ixz="0.0" iyy="2.3516266e-07" iyz="0.0" izz="2.691504e-07"/>
    </inertial>
  </link>
  <!-- Outer JOINT -->
  <joint name="left_hand_v1_2_research_ring_middle_joint" type="revolute">
    <axis xyz="0 0 -1"/>
    <origin rpy="0 0 0" xyz="0.017 0 0"/>
    <parent link="left_hand_v1_2_research_ring_middle_virtual_link"/>
    <child link="left_hand_v1_2_research_ring_middle_link"/>
    <limit effort="30" lower="0.0" upper="0.785398" velocity="10.0"/>
    <dynamics damping="3e-2" friction="0.0"/>
  </joint>
  <!-- LINK -->
  <link name="left_hand_v1_2_research_ring_middle_link">
    <inertial>
      <mass value="0.0063"/>
      <inertia ixx="1.8024201e-07" ixy="5.756798e-09" ixz="0.0" iyy="2.3516266e-07" iyz="0.0" izz="2.691504e-07"/>
      <origin rpy="0 0 0" xyz="4.7601567e-03 -1.3786947e-03 0.0"/>
    </inertial>
    <visual>
      <origin rpy="0 0 0" xyz="0 0 0"/>
      <geometry>
        <mesh filename="package://softhands_description/meshes/v1_2_research/left/ph_short.stl" scale="0.001 0.001 0.001"/>
      </geometry>
      <material name="qbhand/palm"/>
    </visual>
    <collision>
      <origin rpy="0 0 0" xyz="0 0 0"/>
      <geometry>
        <mesh filename="package://softhands_description/meshes/v1_2_research/left/ph_short.stl" scale="0.001 0.001 0.001"/>
      </geometry>
    </collision>
  </link>
  <!-- GAZEBO REF -->
  <gazebo reference="left_hand_v1_2_research_ring_middle_link">
    <material>Gazebo/Grey</material>
    <selfCollide>0</selfCollide>
  </gazebo>
  <!-- GAZEBO REF -->
  <gazebo reference="left_hand_v1_2_research_ring_middle_joint">
    <implicitSpringDamper>true</implicitSpringDamper>
    <springStiffness>0.4</springStiffness>
    <springReference>0</springReference>
  </gazebo>
  <!-- GAZEBO REF -->
  <gazebo reference="left_hand_v1_2_research_ring_middle_virtual_joint">
    <implicitSpringDamper>true</implicitSpringDamper>
    <springStiffness>0.4</springStiffness>
    <springReference>0</springReference>
  </gazebo>
  <!-- Inner VIRTUAL JOINT -->
  <joint name="left_hand_v1_2_research_ring_distal_virtual_joint" type="revolute">
    <axis xyz="0 0 -1"/>
    <origin rpy="0 0 0" xyz="0.009 0 0"/>
    <parent link="left_hand_v1_2_research_ring_middle_link"/>
    <child link="left_hand_v1_2_research_ring_distal_virtual_link"/>
    <limit effort="30" lower="0.0" upper="0.785398" velocity="10.0"/>
    <dynamics damping="3e-2" friction="0.0"/>
  </joint>
  <!-- VIRTUAL LINK -->
  <link name="left_hand_v1_2_research_ring_distal_virtual_link">
    <inertial>
      <origin rpy="0 0 0" xyz="0 0 0"/>
      <mass value="0.009"/>
      <inertia ixx="2.6586142e-07" ixy="1.2416847e-08" ixz="0.0" iyy="5.9935767e-07" iyz="0.0" izz="6.6781963e-07"/>
    </inertial>
  </link>
  <!-- Outer JOINT -->
  <joint name="left_hand_v1_2_research_ring_distal_joint" type="revolute">
    <axis xyz="0 0 -1"/>
    <origin rpy="0 0 0" xyz="0.013 0 0"/>
    <parent link="left_hand_v1_2_research_ring_distal_virtual_link"/>
    <child link="left_hand_v1_2_research_ring_distal_link"/>
    <limit effort="30" lower="0.0" upper="0.785398" velocity="10.0"/>
    <dynamics damping="3e-2" friction="0.0"/>
  </joint>
  <!-- LINK -->
  <link name="left_hand_v1_2_research_ring_distal_link">
    <inertial>
      <mass value="0.009"/>
      <inertia ixx="2.6586142e-07" ixy="1.2416847e-08" ixz="0.0" iyy="5.9935767e-07" iyz="0.0" izz="6.6781963e-07"/>
      <origin rpy="0 0 0" xyz="8.8025467e-03 -1.7219289e-03 0.0"/>
    </inertial>
    <visual>
      <origin rpy="0 0 0" xyz="0 0 0"/>
      <geometry>
        <mesh filename="package://softhands_description/meshes/v1_2_research/left/ph_distal.stl" scale="0.001 0.001 0.001"/>
      </geometry>
      <material name="qbhand/palm"/>
    </visual>
    <collision>
      <origin rpy="0 0 0" xyz="0 0 0"/>
      <geometry>
        <mesh filename="package://softhands_description/meshes/v1_2_research/left/ph_distal.stl" scale="0.001 0.001 0.001"/>
      </geometry>
    </collision>
  </link>
  <!-- GAZEBO REF -->
  <gazebo reference="left_hand_v1_2_research_ring_distal_link">
    <material>Gazebo/Grey</material>
    <selfCollide>0</selfCollide>
  </gazebo>
  <!-- GAZEBO REF -->
  <gazebo reference="left_hand_v1_2_research_ring_distal_joint">
    <implicitSpringDamper>true</implicitSpringDamper>
    <springStiffness>0.4</springStiffness>
    <springReference>0</springReference>
  </gazebo>
  <!-- GAZEBO REF -->
  <gazebo reference="left_hand_v1_2_research_ring_distal_virtual_joint">
    <implicitSpringDamper>true</implicitSpringDamper>
    <springStiffness>0.4</springStiffness>
    <springReference>0</springReference>
  </gazebo>
  <!-- Proximal JOINT -->
  <joint name="left_hand_v1_2_research_little_knuckle_joint" type="revolute">
    <origin rpy="0 3.14 -1.57" xyz="0.04 -0.012 -0.014"/>
    <parent link="left_hand_v1_2_research_palm_link"/>
    <child link="left_hand_v1_2_research_little_knuckle_link"/>
    <axis xyz="0 0 -1"/>
    <limit effort="30" lower="-0.524" upper="0.524" velocity="10.0"/>
    <dynamics damping="3e-2" friction="0.0"/>
  </joint>
  <!-- LINK -->
  <link name="left_hand_v1_2_research_little_knuckle_link">
    <inertial>
      <origin rpy="0 0 0" xyz="4.2753603e-04  0.0 -1.4321738e-03"/>
      <mass value="0.0095"/>
      <inertia ixx="6.4337303e-07" ixy="0.0" ixz="-3.9373913e-08" iyy="1.1253771e-06" iyz="0.0" izz="7.2336948e-07"/>
    </inertial>
    <visual>
      <origin rpy="0 0 0" xyz="0 0 0"/>
      <geometry>
        <mesh filename="package://softhands_description/meshes/v1_2_research/left/ph_knuckle.stl" scale="0.001 0.001 0.001"/>
      </geometry>
      <material name="qbhand/palm"/>
    </visual>
    <collision>
      <origin rpy="0 0 0" xyz="0 0 0"/>
      <geometry>
        <mesh filename="package://softhands_description/meshes/v1_2_research/left/ph_knuckle.stl" scale="0.001 0.001 0.001"/>
      </geometry>
    </collision>
  </link>
  <!-- GAZEBO REF -->
  <gazebo reference="left_hand_v1_2_research_little_knuckle_link">
    <material>Gazebo/Grey</material>
    <selfCollide>0</selfCollide>
  </gazebo>
  <!-- GAZEBO REF -->
  <gazebo reference="left_hand_v1_2_research_little_knuckle_joint">
    <implicitSpringDamper>true</implicitSpringDamper>
    <springStiffness>0.8</springStiffness>
    <springReference>0</springReference>
  </gazebo>
  <!-- Inner VIRTUAL JOINT -->
  <joint name="left_hand_v1_2_research_little_proximal_virtual_joint" type="revolute">
    <axis xyz="0 0 -1"/>
    <origin rpy="1.57 0 0" xyz="0.009 0 0"/>
    <parent link="left_hand_v1_2_research_little_knuckle_link"/>
    <child link="left_hand_v1_2_research_little_proximal_virtual_link"/>
    <limit effort="30" lower="0.0" upper="0.785398" velocity="10.0"/>
    <dynamics damping="3e-2" friction="0.0"/>
  </joint>
  <!-- VIRTUAL LINK -->
  <link name="left_hand_v1_2_research_little_proximal_virtual_link">
    <inertial>
      <origin rpy="0 0 0" xyz="0 0 0"/>
      <mass value="0.009"/>
      <inertia ixx="2.2722068e-07" ixy="1.1586053e-08" ixz="0.0" iyy="5.5947233e-07" iyz="0.0" izz="5.9562195e-07"/>
    </inertial>
  </link>
  <!-- Outer JOINT -->
  <joint name="left_hand_v1_2_research_little_proximal_joint" type="revolute">
    <axis xyz="0 0 -1"/>
    <origin rpy="0.0 0 0" xyz="0.013 0 0"/>
    <parent link="left_hand_v1_2_research_little_proximal_virtual_link"/>
    <child link="left_hand_v1_2_research_little_proximal_link"/>
    <limit effort="30" lower="0.0" upper="0.785398" velocity="10.0"/>
    <dynamics damping="3e-2" friction="0.0"/>
  </joint>
  <!-- LINK -->
  <link name="left_hand_v1_2_research_little_proximal_link">
    <inertial>
      <mass value="0.009"/>
      <inertia ixx="2.2722068e-07" ixy="1.1586053e-08" ixz="0.0" iyy="5.5947233e-07" iyz="0.0" izz="5.9562195e-07"/>
      <origin rpy="0 0 0" xyz="8.7707437e-03 -1.7863138e-03 0.0"/>
    </inertial>
    <visual>
      <origin rpy="0 0 0" xyz="0 0 0"/>
      <geometry>
        <mesh filename="package://softhands_description/meshes/v1_2_research/left/ph_medium.stl" scale="0.001 0.001 0.001"/>
      </geometry>
      <material name="qbhand/palm"/>
    </visual>
    <collision>
      <origin rpy="0 0 0" xyz="0 0 0"/>
      <geometry>
        <mesh filename="package://softhands_description/meshes/v1_2_research/left/ph_medium.stl" scale="0.001 0.001 0.001"/>
      </geometry>
    </collision>
  </link>
  <!-- GAZEBO REF -->
  <gazebo reference="left_hand_v1_2_research_little_proximal_link">
    <material>Gazebo/Grey</material>
    <selfCollide>0</selfCollide>
  </gazebo>
  <!-- GAZEBO REF -->
  <gazebo reference="left_hand_v1_2_research_little_proximal_joint">
    <implicitSpringDamper>true</implicitSpringDamper>
    <springStiffness>0.4</springStiffness>
    <springReference>0</springReference>
  </gazebo>
  <!-- GAZEBO REF -->
  <gazebo reference="left_hand_v1_2_research_little_proximal_virtual_joint">
    <implicitSpringDamper>true</implicitSpringDamper>
    <springStiffness>0.4</springStiffness>
    <springReference>0</springReference>
  </gazebo>
  <!-- Inner VIRTUAL JOINT -->
  <joint name="left_hand_v1_2_research_little_middle_virtual_joint" type="revolute">
    <axis xyz="0 0 -1"/>
    <origin rpy="0.0 0.0 0.0" xyz="0.013 0 0 "/>
    <parent link="left_hand_v1_2_research_little_proximal_link"/>
    <child link="left_hand_v1_2_research_little_middle_virtual_link"/>
    <limit effort="30" lower="0.0" upper="0.785398" velocity="10.0"/>
    <dynamics damping="3e-2" friction="0.0"/>
  </joint>
  <!-- VIRTUAL LINK -->
  <link name="left_hand_v1_2_research_little_middle_virtual_link">
    <inertial>
      <origin rpy="0 0 0" xyz="0 0 0"/>
      <mass value="0.0063"/>
      <inertia ixx="1.8024201e-07" ixy="5.756798e-09" ixz="0.0" iyy="2.3516266e-07" iyz="0.0" izz="2.691504e-07"/>
    </inertial>
  </link>
  <!-- Outer JOINT -->
  <joint name="left_hand_v1_2_research_little_middle_joint" type="revolute">
    <axis xyz="0 0 -1"/>
    <origin rpy="0 0 0" xyz="0.017 0 0"/>
    <parent link="left_hand_v1_2_research_little_middle_virtual_link"/>
    <child link="left_hand_v1_2_research_little_middle_link"/>
    <limit effort="30" lower="0.0" upper="0.785398" velocity="10.0"/>
    <dynamics damping="3e-2" friction="0.0"/>
  </joint>
  <!-- LINK -->
  <link name="left_hand_v1_2_research_little_middle_link">
    <inertial>
      <mass value="0.0063"/>
      <inertia ixx="1.8024201e-07" ixy="5.756798e-09" ixz="0.0" iyy="2.3516266e-07" iyz="0.0" izz="2.691504e-07"/>
      <origin rpy="0 0 0" xyz="4.7601567e-03 -1.3786947e-03 0.0"/>
    </inertial>
    <visual>
      <origin rpy="0 0 0" xyz="0 0 0"/>
      <geometry>
        <mesh filename="package://softhands_description/meshes/v1_2_research/left/ph_short.stl" scale="0.001 0.001 0.001"/>
      </geometry>
      <material name="qbhand/palm"/>
    </visual>
    <collision>
      <origin rpy="0 0 0" xyz="0 0 0"/>
      <geometry>
        <mesh filename="package://softhands_description/meshes/v1_2_research/left/ph_short.stl" scale="0.001 0.001 0.001"/>
      </geometry>
    </collision>
  </link>
  <!-- GAZEBO REF -->
  <gazebo reference="left_hand_v1_2_research_little_middle_link">
    <material>Gazebo/Grey</material>
    <selfCollide>0</selfCollide>
  </gazebo>
  <!-- GAZEBO REF -->
  <gazebo reference="left_hand_v1_2_research_little_middle_joint">
    <implicitSpringDamper>true</implicitSpringDamper>
    <springStiffness>0.4</springStiffness>
    <springReference>0</springReference>
  </gazebo>
  <!-- GAZEBO REF -->
  <gazebo reference="left_hand_v1_2_research_little_middle_virtual_joint">
    <implicitSpringDamper>true</implicitSpringDamper>
    <springStiffness>0.4</springStiffness>
    <springReference>0</springReference>
  </gazebo>
  <!-- Inner VIRTUAL JOINT -->
  <joint name="left_hand_v1_2_research_little_distal_virtual_joint" type="revolute">
    <axis xyz="0 0 -1"/>
    <origin rpy="0 0 0" xyz="0.009 0 0"/>
    <parent link="left_hand_v1_2_research_little_middle_link"/>
    <child link="left_hand_v1_2_research_little_distal_virtual_link"/>
    <limit effort="30" lower="0.0" upper="0.785398" velocity="10.0"/>
    <dynamics damping="3e-2" friction="0.0"/>
  </joint>
  <!-- VIRTUAL LINK -->
  <link name="left_hand_v1_2_research_little_distal_virtual_link">
    <inertial>
      <origin rpy="0 0 0" xyz="0 0 0"/>
      <mass value="0.009"/>
      <inertia ixx="2.6586142e-07" ixy="1.2416847e-08" ixz="0.0" iyy="5.9935767e-07" iyz="0.0" izz="6.6781963e-07"/>
    </inertial>
  </link>
  <!-- Outer JOINT -->
  <joint name="left_hand_v1_2_research_little_distal_joint" type="revolute">
    <axis xyz="0 0 -1"/>
    <origin rpy="0 0 0" xyz="0.013 0 0"/>
    <parent link="left_hand_v1_2_research_little_distal_virtual_link"/>
    <child link="left_hand_v1_2_research_little_distal_link"/>
    <limit effort="30" lower="0.0" upper="0.785398" velocity="10.0"/>
    <dynamics damping="3e-2" friction="0.0"/>
  </joint>
  <!-- LINK -->
  <link name="left_hand_v1_2_research_little_distal_link">
    <inertial>
      <mass value="0.009"/>
      <inertia ixx="2.6586142e-07" ixy="1.2416847e-08" ixz="0.0" iyy="5.9935767e-07" iyz="0.0" izz="6.6781963e-07"/>
      <origin rpy="0 0 0" xyz="8.8025467e-03 -1.7219289e-03 0.0"/>
    </inertial>
    <visual>
      <origin rpy="0 0 0" xyz="0 0 0"/>
      <geometry>
        <mesh filename="package://softhands_description/meshes/v1_2_research/left/ph_distal.stl" scale="0.001 0.001 0.001"/>
      </geometry>
      <material name="qbhand/palm"/>
    </visual>
    <collision>
      <origin rpy="0 0 0" xyz="0 0 0"/>
      <geometry>
        <mesh filename="package://softhands_description/meshes/v1_2_research/left/ph_distal.stl" scale="0.001 0.001 0.001"/>
      </geometry>
    </collision>
  </link>
  <!-- GAZEBO REF -->
  <gazebo reference="left_hand_v1_2_research_little_distal_link">
    <material>Gazebo/Grey</material>
    <selfCollide>0</selfCollide>
  </gazebo>
  <!-- GAZEBO REF -->
  <gazebo reference="left_hand_v1_2_research_little_distal_joint">
    <implicitSpringDamper>true</implicitSpringDamper>
    <springStiffness>0.4</springStiffness>
    <springReference>0</springReference>
  </gazebo>
  <!-- GAZEBO REF -->
  <gazebo reference="left_hand_v1_2_research_little_distal_virtual_joint">
    <implicitSpringDamper>true</implicitSpringDamper>
    <springStiffness>0.4</springStiffness>
    <springReference>0</springReference>
  </gazebo>
  <!-- IF VERSION == 1_wide -->
</robot>
